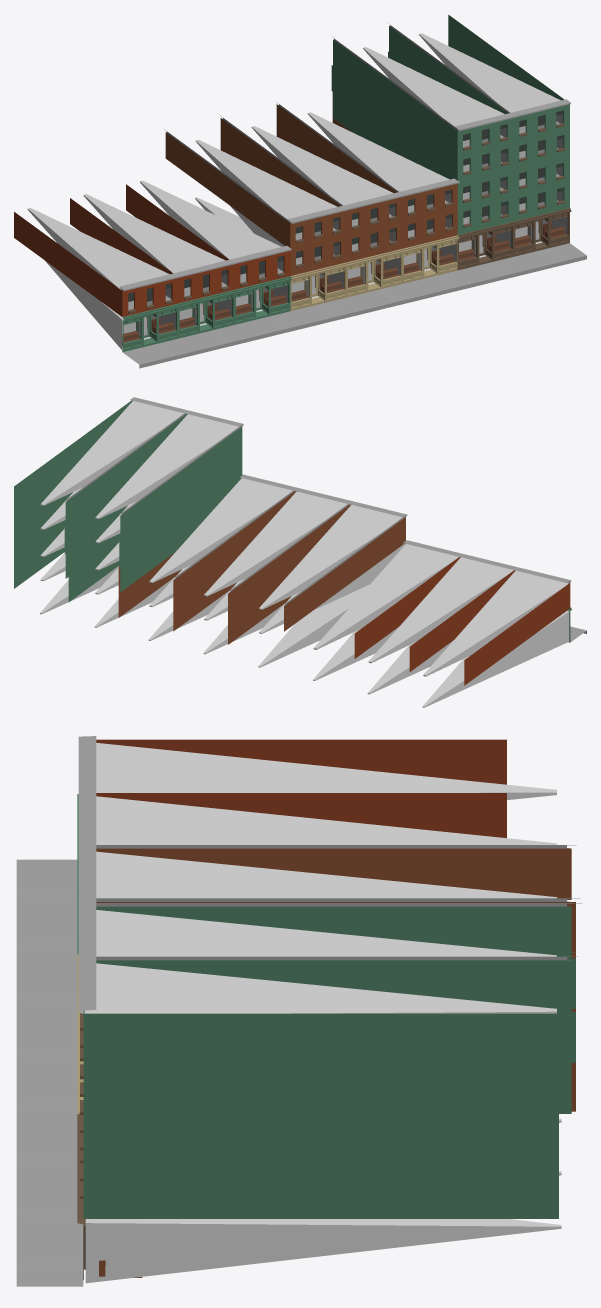
Rendered from genericbuildings.glb.
The picture shows the model from 3 angles, top to bottom: view 1: azimuth 30°, elevation 25°; view 2: azimuth 150°, elevation 25°; view 3: azimuth 270°, elevation 25°; orthographic projection. The views are drawn at different scales.
Parts seen in each view (by area): view 1: shops3, shops2, shops1; view 2: shops3, shops2, shops1; view 3: shops3, shops1, shops2.
Part boxes in pixels (bbox=[...]): shops3: bbox=[331, 15, 586, 286]; shops2: bbox=[164, 92, 474, 327]; shops1: bbox=[14, 180, 307, 368]; shops3: bbox=[14, 397, 243, 627]; shops2: bbox=[118, 474, 407, 667]; shops1: bbox=[313, 540, 586, 707]; shops3: bbox=[16, 903, 582, 1286]; shops1: bbox=[16, 736, 556, 1020]; shops2: bbox=[16, 845, 580, 1179].
Bounding box in the file's own units: 41.98 × 13.02 × 23.58.
